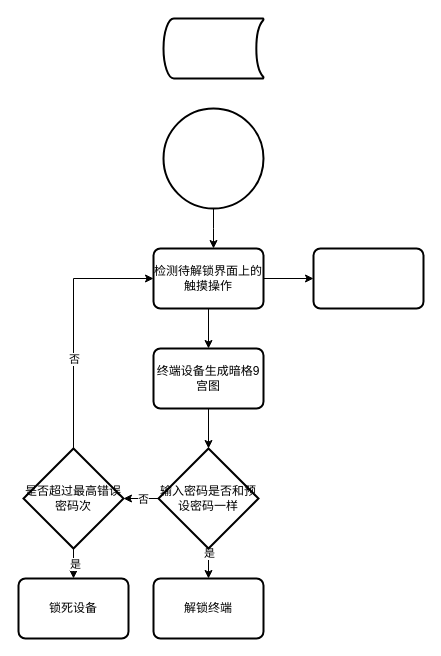
Some shapes in this 441 by 656 pixel diagram are drawn without their labels. The centre of each missing label's shape, as x and y in pixels:
待解锁状态: [213,158]
穿戴设备生成随机9宫图: [368,278]
预设置了密码串: [213,48]
